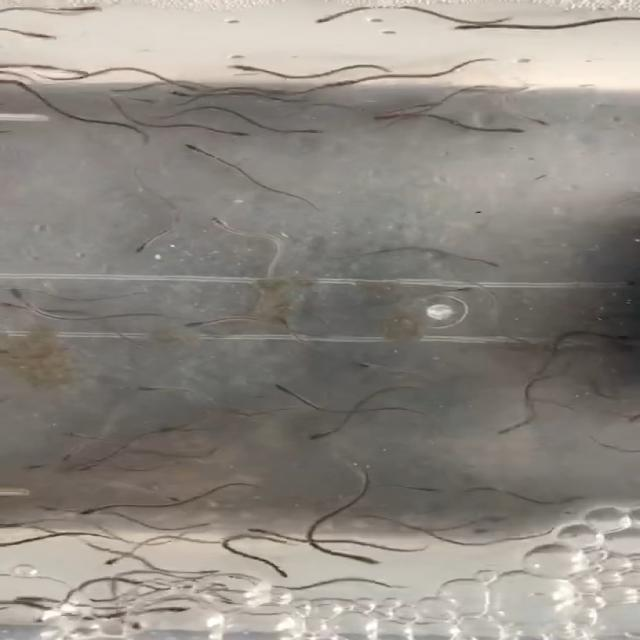active_glass_eel: (472, 246, 522, 270), (275, 322, 318, 348), (264, 378, 302, 406), (185, 309, 234, 330), (123, 229, 165, 252), (42, 441, 90, 460), (445, 279, 485, 300), (276, 122, 320, 141), (342, 548, 376, 572), (248, 557, 288, 576), (63, 426, 109, 442), (0, 23, 48, 38), (495, 419, 525, 443), (520, 495, 562, 512), (1, 288, 36, 308), (195, 213, 236, 230), (71, 3, 114, 18), (583, 327, 625, 342), (308, 426, 336, 448), (238, 521, 276, 537), (487, 122, 521, 139), (213, 126, 253, 140), (395, 479, 432, 494), (69, 464, 108, 478), (19, 516, 68, 527), (375, 108, 406, 125), (59, 63, 88, 81), (131, 385, 171, 398), (65, 504, 102, 518), (118, 454, 150, 470), (164, 85, 192, 101), (175, 140, 207, 154), (86, 500, 119, 512), (401, 98, 424, 115), (101, 552, 128, 566), (234, 63, 264, 75), (307, 14, 342, 24), (19, 458, 48, 470), (450, 26, 482, 36), (146, 494, 178, 504), (5, 78, 27, 91), (348, 363, 372, 373)
